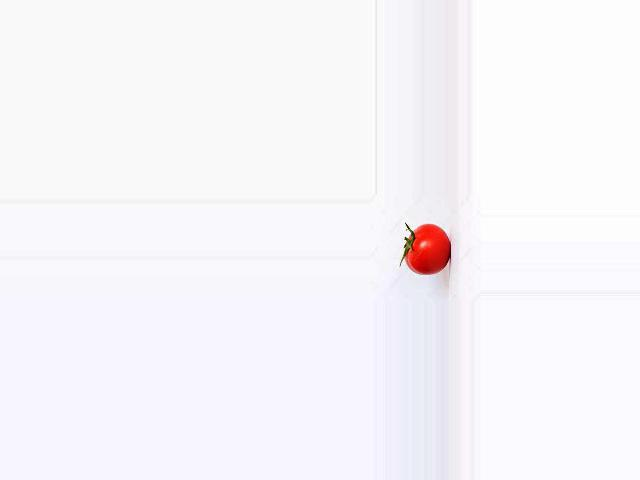tomato: (405, 224, 450, 276)
